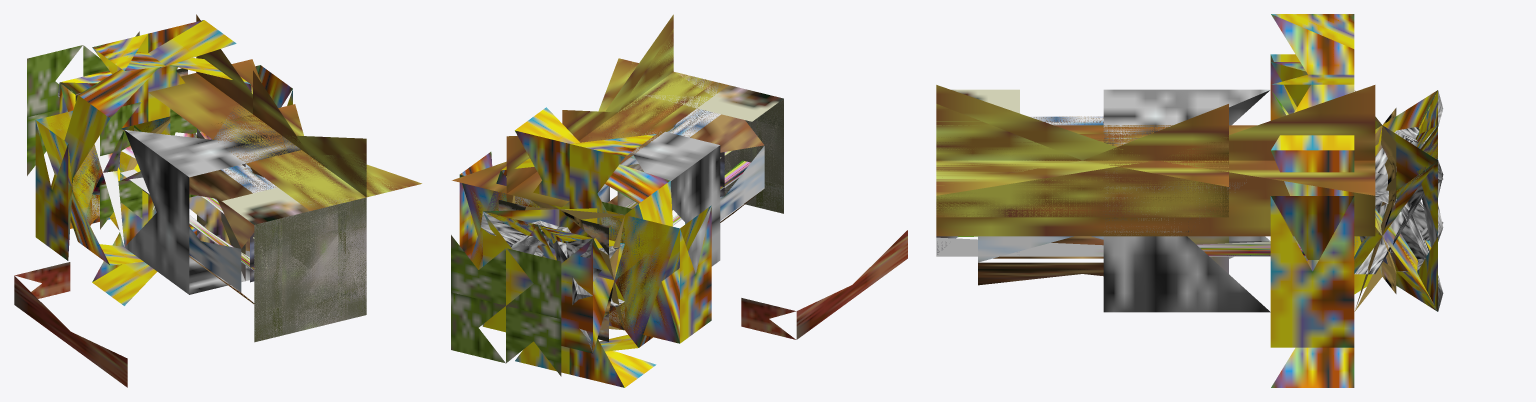
Rendered from town_geometry_type_40.obj.
3 views of the same model, side by side, from view 1: azimuth 30°, elevation 25°; view 2: azimuth 150°, elevation 25°; view 3: azimuth 270°, elevation 25° (orthographic). The views are drawn at different scales.
Visible parts, largest first — view 1: face_list_010, face_list_190, face_list_015, face_list_198, face_list_002, face_list_060, face_list_195, face_list_204, face_list_000, face_list_199, face_list_193, face_list_014 (+20 smaller); view 2: face_list_190, face_list_010, face_list_198, face_list_002, face_list_204, face_list_200, face_list_195, face_list_199, face_list_000, face_list_196, face_list_193, face_list_197 (+14 smaller); view 3: face_list_010, face_list_002, face_list_193, face_list_195, face_list_194, face_list_190, face_list_204, face_list_202, face_list_199, face_list_198, face_list_196, face_list_197 (+4 smaller).
Boxes of the visible parts, left/top/right/bottom form: face_list_010: left=83, top=14, right=421, bottom=210; face_list_190: left=36, top=111, right=249, bottom=294; face_list_015: left=254, top=198, right=366, bottom=342; face_list_198: left=51, top=20, right=236, bottom=256; face_list_002: left=170, top=70, right=408, bottom=207; face_list_060: left=282, top=197, right=366, bottom=335; face_list_195: left=124, top=52, right=300, bottom=177; face_list_204: left=150, top=119, right=277, bottom=303; face_list_000: left=14, top=262, right=127, bottom=387; face_list_199: left=35, top=111, right=119, bottom=260; face_list_193: left=59, top=65, right=292, bottom=305; face_list_014: left=189, top=187, right=359, bottom=255; face_list_190: left=483, top=145, right=720, bottom=351; face_list_010: left=451, top=14, right=728, bottom=305; face_list_198: left=515, top=107, right=679, bottom=343; face_list_002: left=562, top=29, right=714, bottom=142; face_list_204: left=597, top=108, right=764, bottom=341; face_list_200: left=483, top=212, right=592, bottom=353; face_list_195: left=470, top=129, right=719, bottom=352; face_list_199: left=510, top=207, right=711, bottom=343; face_list_000: left=741, top=230, right=907, bottom=339; face_list_196: left=515, top=130, right=656, bottom=352; face_list_193: left=459, top=152, right=656, bottom=387; face_list_197: left=482, top=144, right=633, bottom=326; face_list_010: left=936, top=85, right=1375, bottom=236; face_list_002: left=936, top=104, right=1228, bottom=217; face_list_193: left=1103, top=90, right=1437, bottom=312; face_list_195: left=1103, top=14, right=1382, bottom=294; face_list_194: left=1270, top=91, right=1443, bottom=347; face_list_190: left=1229, top=54, right=1437, bottom=387; face_list_204: left=978, top=116, right=1382, bottom=310; face_list_202: left=936, top=108, right=1396, bottom=256; face_list_199: left=1270, top=54, right=1443, bottom=311; face_list_198: left=1271, top=62, right=1437, bottom=311; face_list_196: left=1271, top=14, right=1443, bottom=303; face_list_197: left=1187, top=190, right=1443, bottom=311.
Size of what is drawn, in the model's own units: 168 by 128 by 224.
26 materials, 26 textured.
